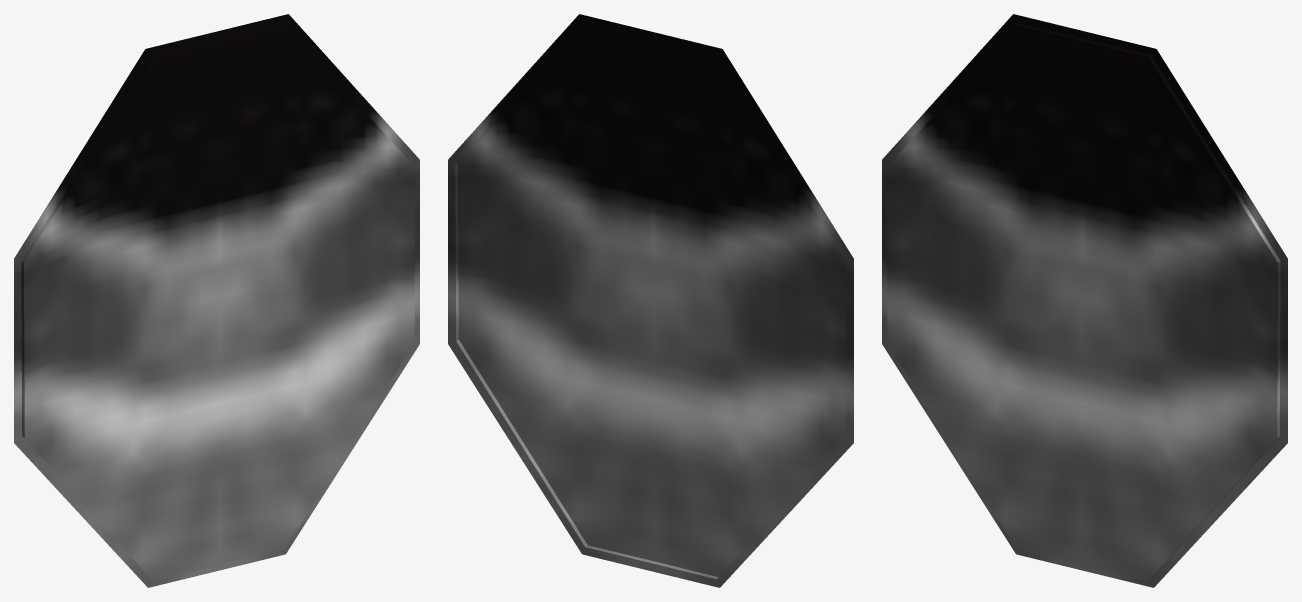
Rendered from zhiba1.FBX.
3 views of the same model, side by side, from view 1: azimuth 30°, elevation 25°; view 2: azimuth 150°, elevation 25°; view 3: azimuth 330°, elevation 25° (orthographic).
Parts seen in each view (by area): view 1: Object29; view 2: Object29; view 3: Object29.
Boxes of the visible parts, box(x1,y1,x2,y2) form: Object29: box(14, 14, 419, 587); Object29: box(448, 14, 853, 587); Object29: box(882, 14, 1287, 587).
Size of the model in its own units: 10.38 by 0.1166 by 13.18.
